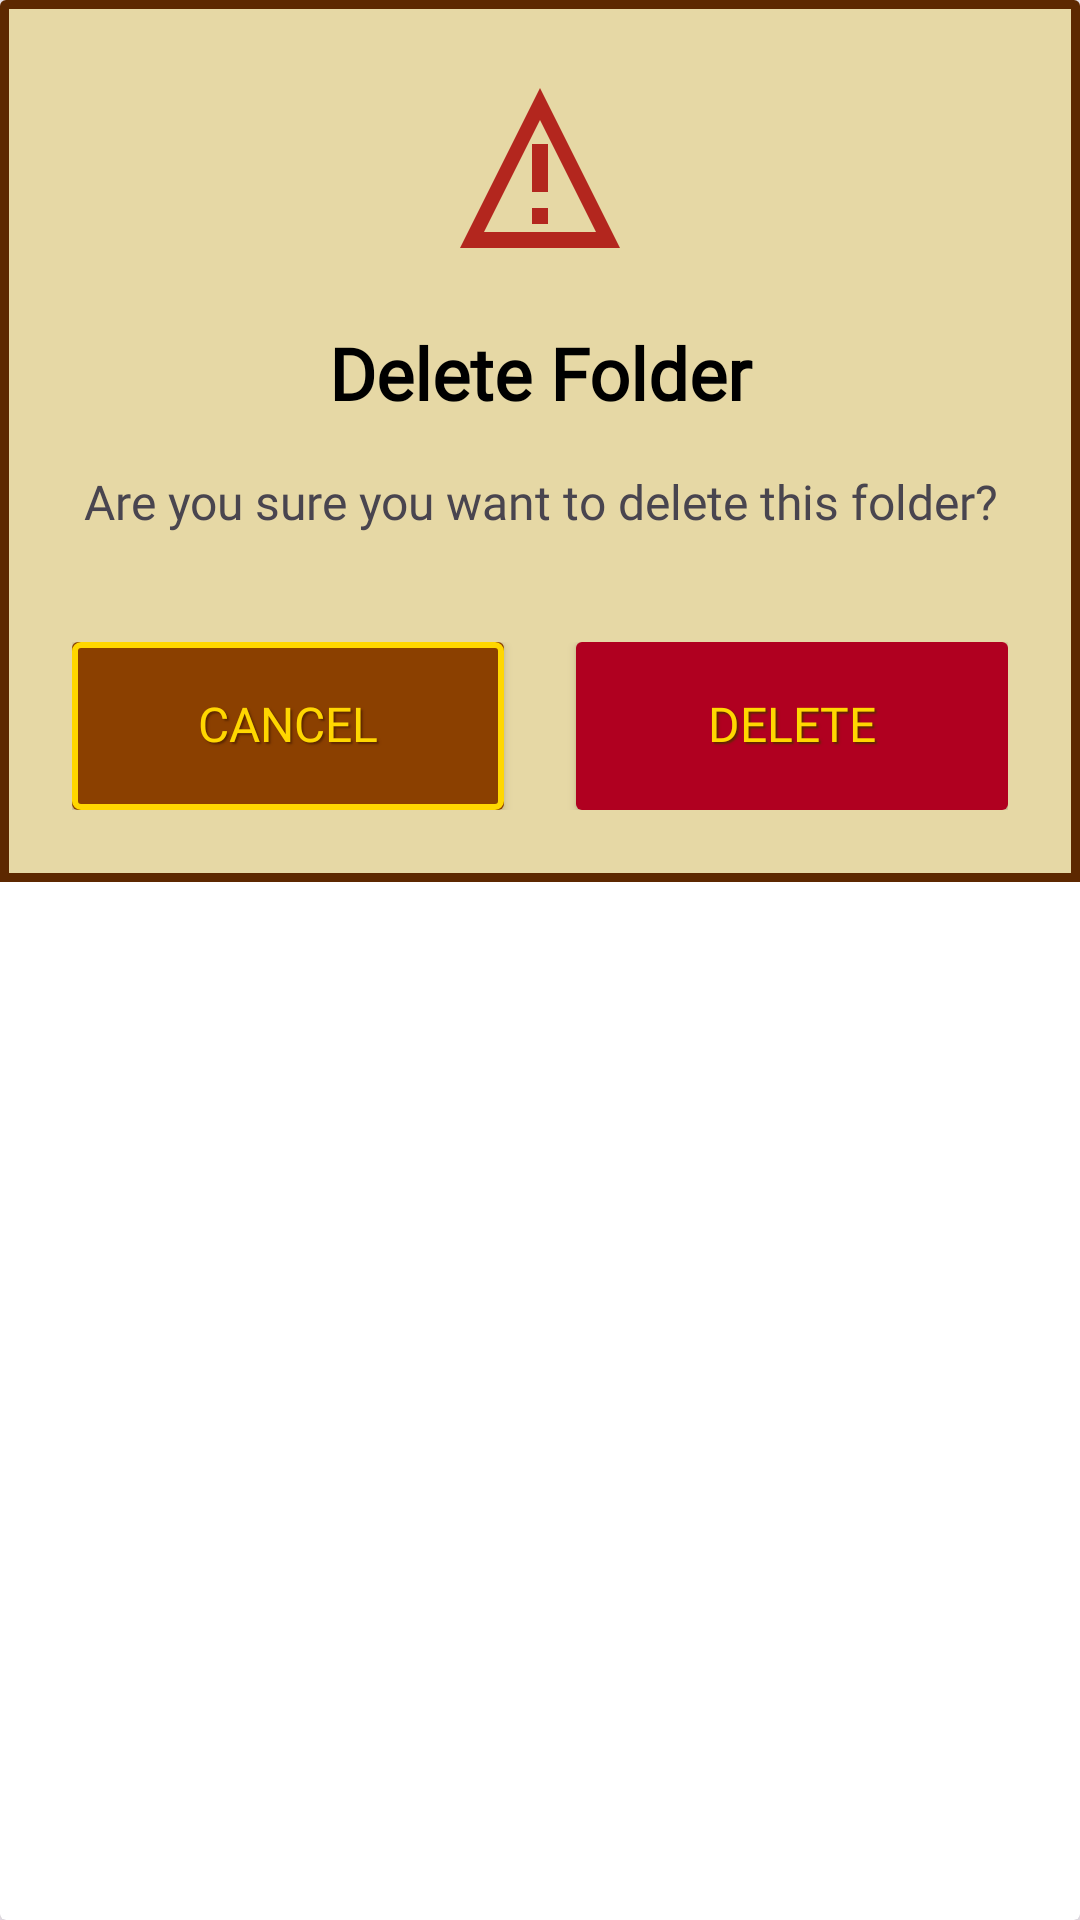

Screen size 1080×1920. Icon name, then its box in pixels as (x1, y1, x2, y2):
warning: (460, 88, 620, 248)
